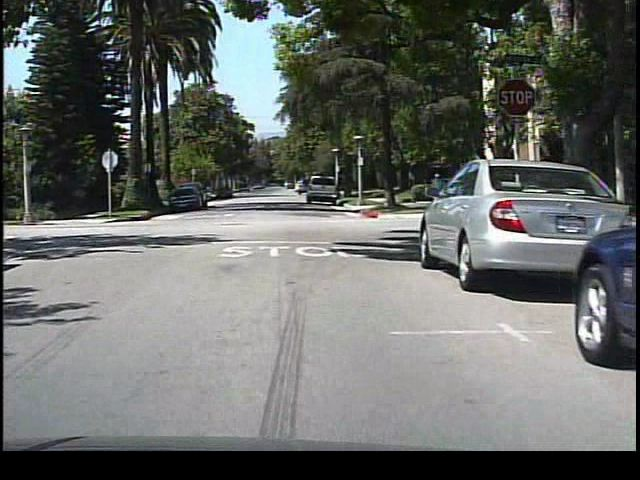person: (425, 166, 448, 213)
